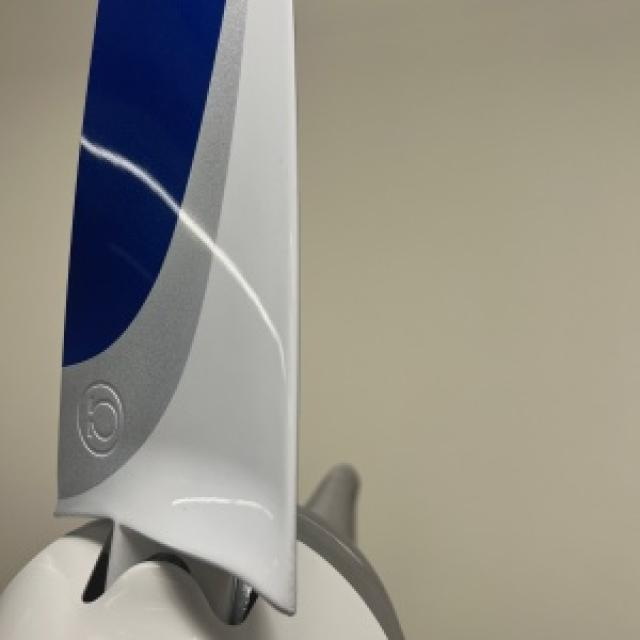healthy: (0, 0, 401, 638)
